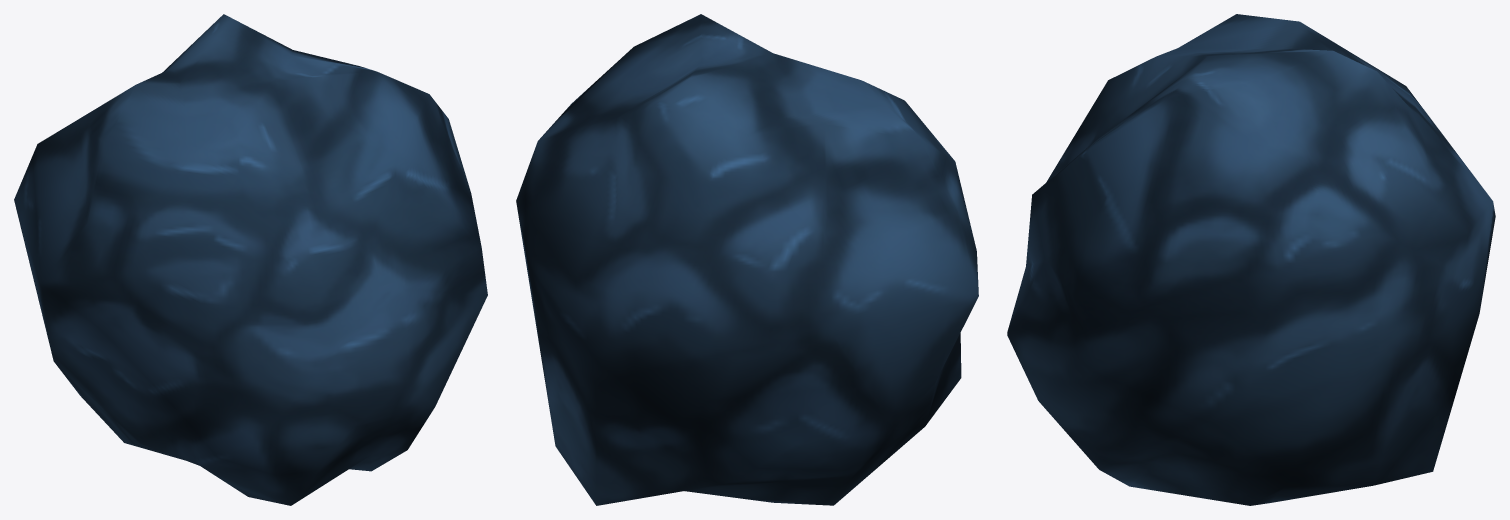
The model's file is BossRock.fbx.
3 renders of one model, left to right at view 1: azimuth 30°, elevation 25°; view 2: azimuth 150°, elevation 25°; view 3: azimuth 270°, elevation 25°, orthographic. The views are drawn at different scales.
Visible parts, largest first — view 1: Cube.001; view 2: Cube.001; view 3: Cube.001.
Boxes of the visible parts, left/top/right/bottom form: Cube.001: left=14, top=14, right=487, bottom=505; Cube.001: left=516, top=14, right=978, bottom=505; Cube.001: left=1007, top=14, right=1495, bottom=505.
Bounding box in the file's own units: 473 × 442 × 464.
1 material, 1 textured.
